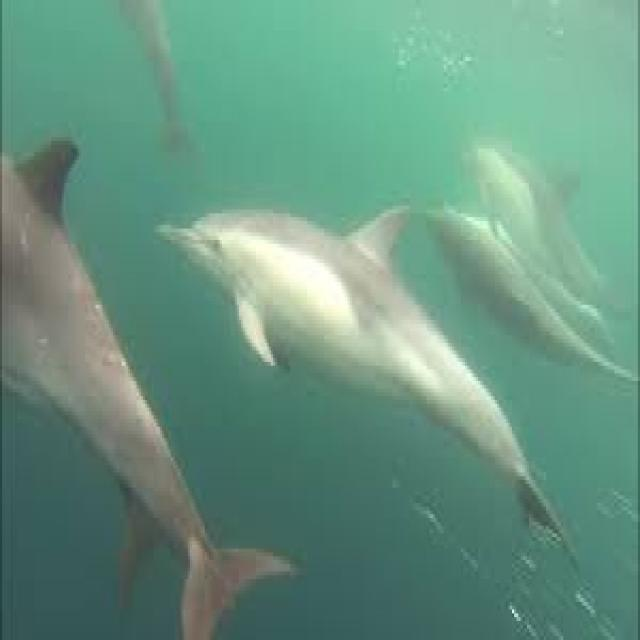dolphin: (158, 152, 570, 583)
